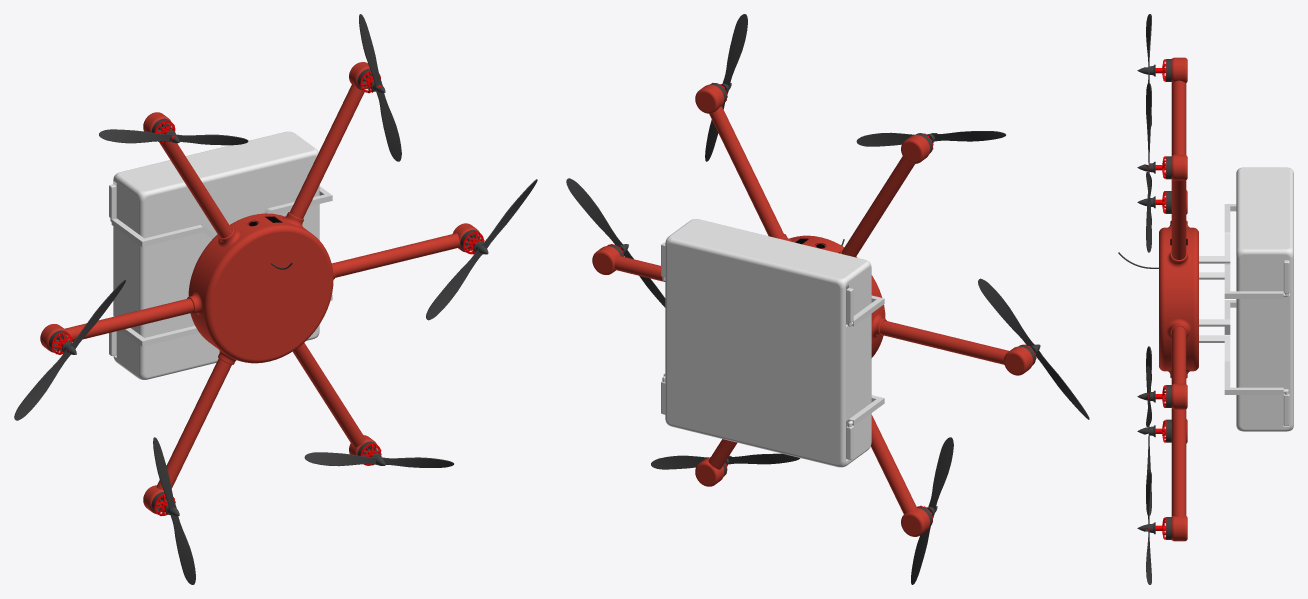
File: Drone v14.fbx
3 renders of one model, left to right at view 1: azimuth 30°, elevation 25°; view 2: azimuth 150°, elevation 25°; view 3: azimuth 270°, elevation 25°, orthographic. The views are drawn at different scales.
Visible parts, largest first — view 1: Body1 (×14), BOX, Body7; view 2: BOX, Body1 (×13); view 3: Body1 (×11), BOX, Body6, Body8, Body7.
Part boxes in pixels (bbox=[...]): Body1 (×14): bbox=[14, 14, 537, 584]; BOX: bbox=[113, 131, 319, 379]; Body7: bbox=[111, 218, 215, 247]; BOX: bbox=[665, 219, 871, 467]; Body1 (×13): bbox=[566, 14, 1089, 584]; Body1 (×11): bbox=[1137, 14, 1236, 584]; BOX: bbox=[1236, 167, 1293, 431]; Body6: bbox=[1199, 335, 1283, 394]; Body8: bbox=[1199, 264, 1283, 298]; Body7: bbox=[1199, 204, 1236, 263].
Size of the model in its own units: 203 by 197 by 61.2.
